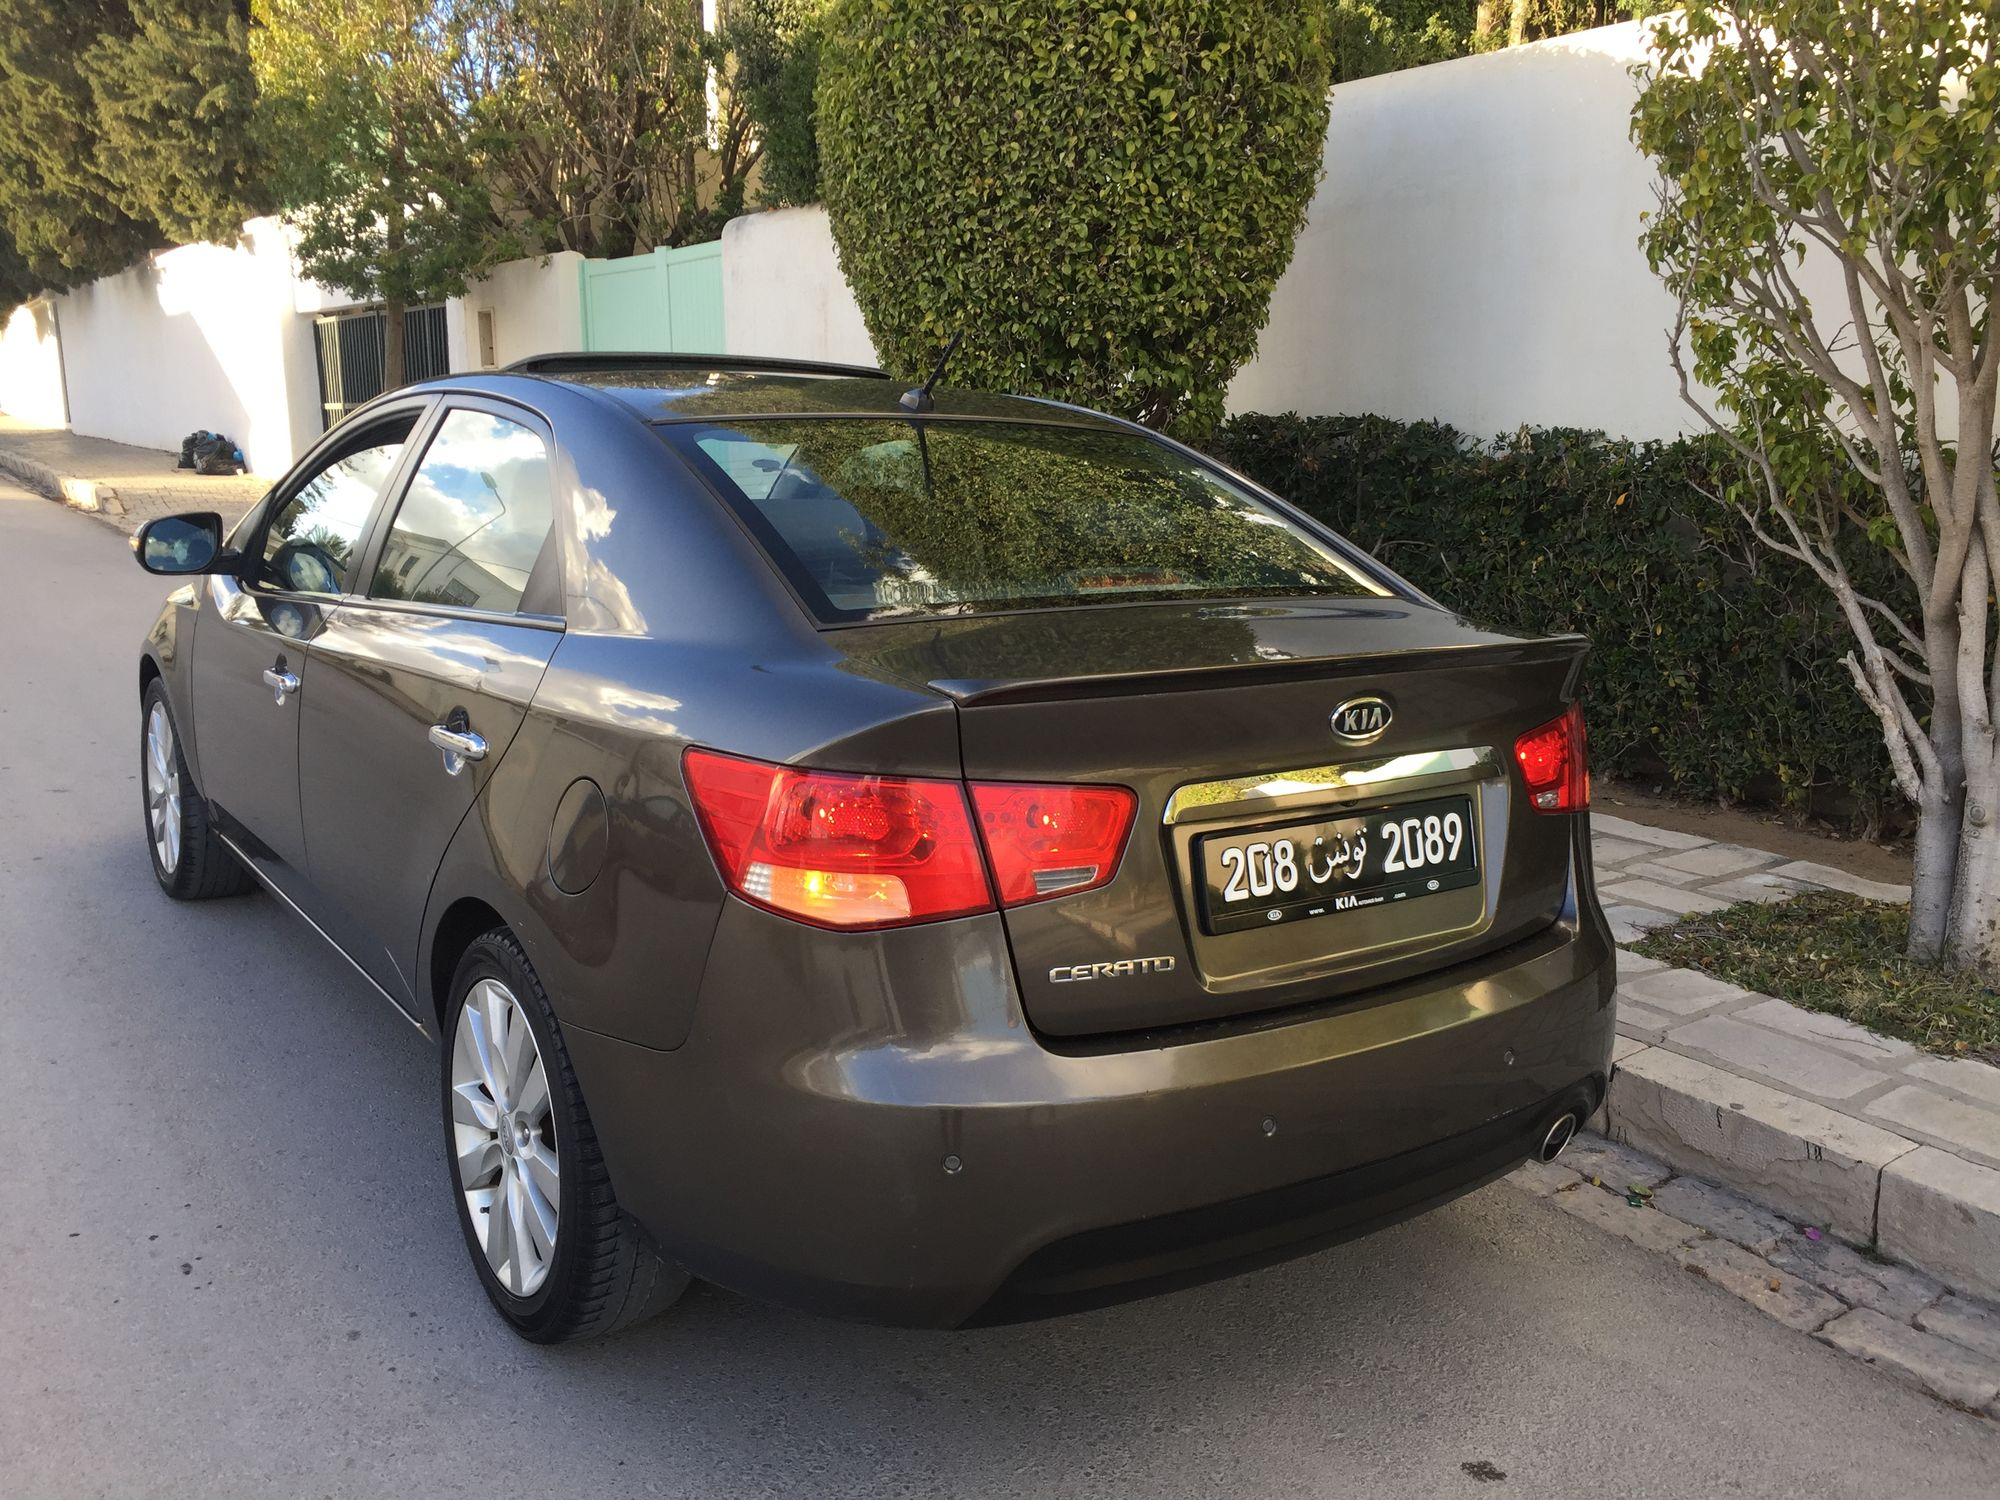LP: (1181, 786, 1484, 930)
